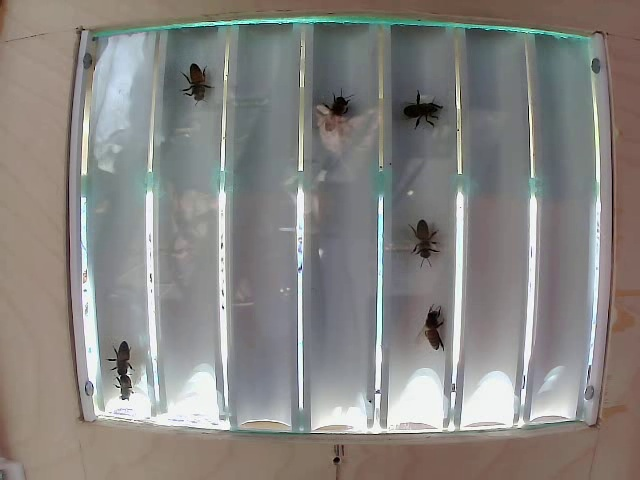bee: (314, 87, 370, 136), (408, 299, 460, 351), (173, 55, 218, 114), (396, 84, 447, 124), (102, 341, 140, 376), (410, 217, 431, 270)
